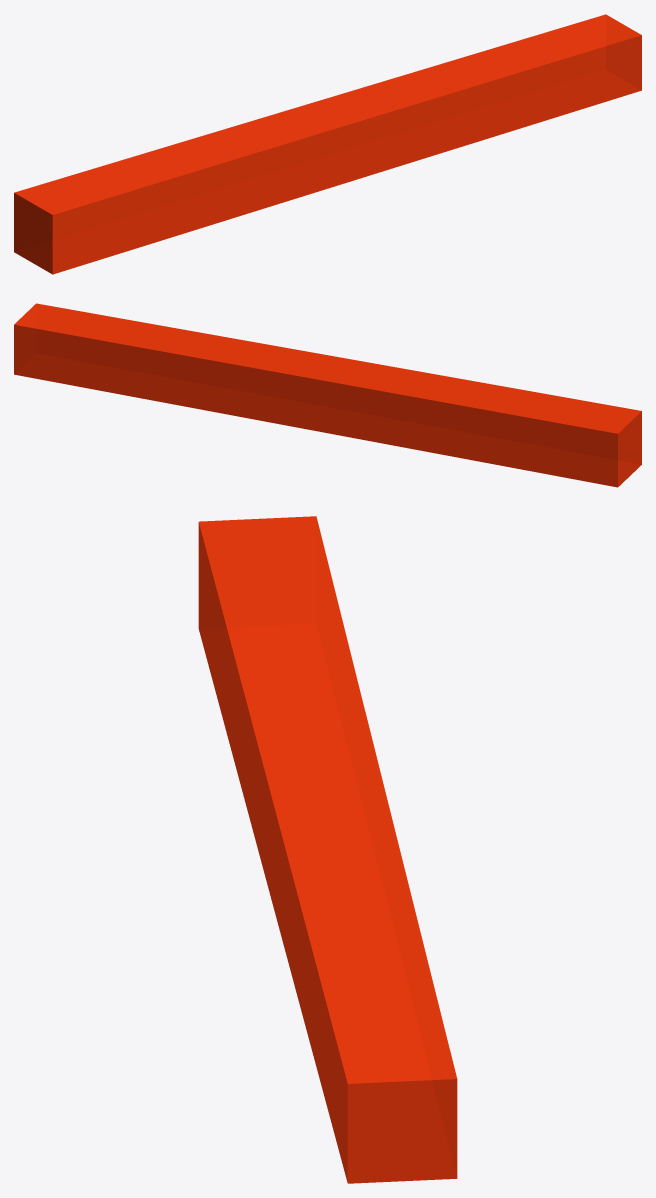
Rendered from Event_421115418_EErechit_28.fbx.
3 renders of one model, top to bottom at view 1: azimuth 30°, elevation 25°; view 2: azimuth 150°, elevation 25°; view 3: azimuth 270°, elevation 25°, orthographic. The views are drawn at different scales.
Visible parts, largest first — view 1: Model; view 2: Model; view 3: Model.
Boxes of the visible parts, x1,y1,x2,y2 form: Model: (14, 14, 641, 274); Model: (14, 303, 641, 487); Model: (198, 516, 457, 1183).
Size of the model in its own units: 0.8732 by 0.0781 by 0.1704.
